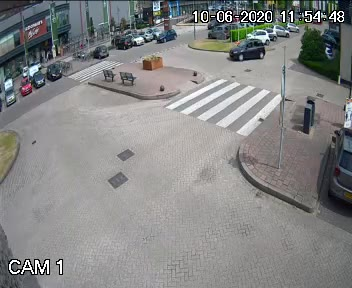car: (225, 36, 267, 63), (154, 26, 177, 43)
